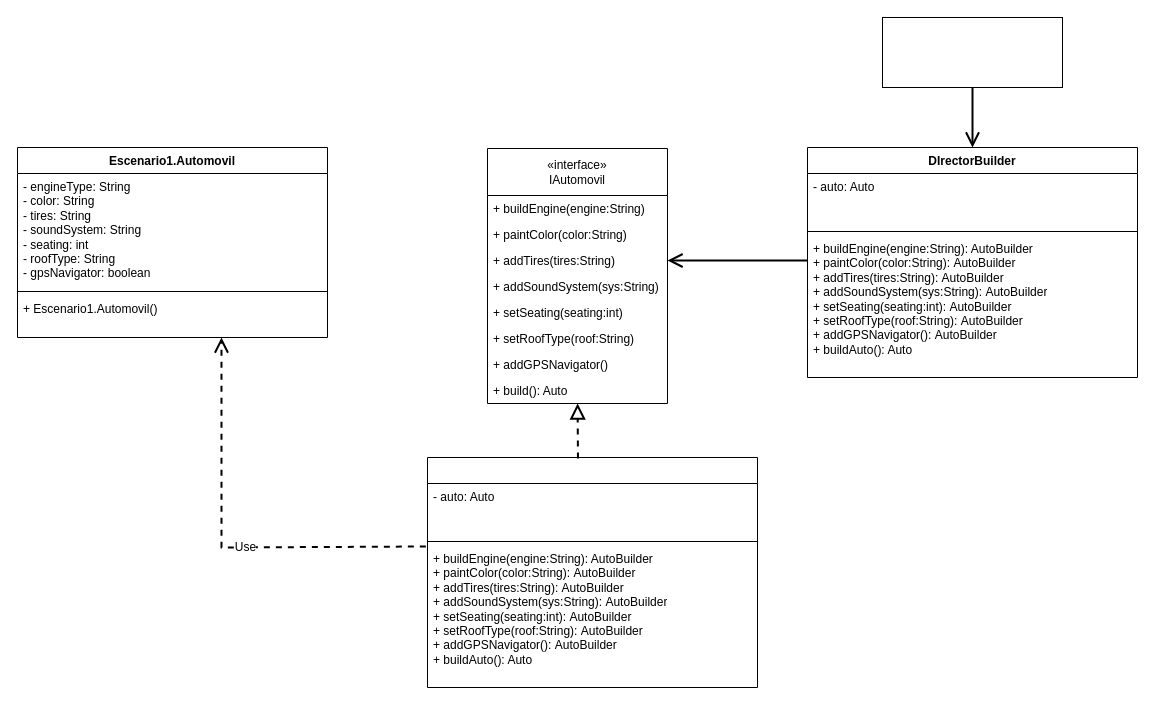
The diagram is 1155 pixels wide and 708 high, and some of its shapes have lost their labels. The box of each missing label's shape, as (x1, y1, x2, y2) in pixels:
AutmovilBuilder: (426, 456, 758, 688)
Client: (882, 16, 1062, 88)
